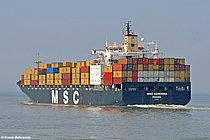Ship: (15, 13, 196, 114)
